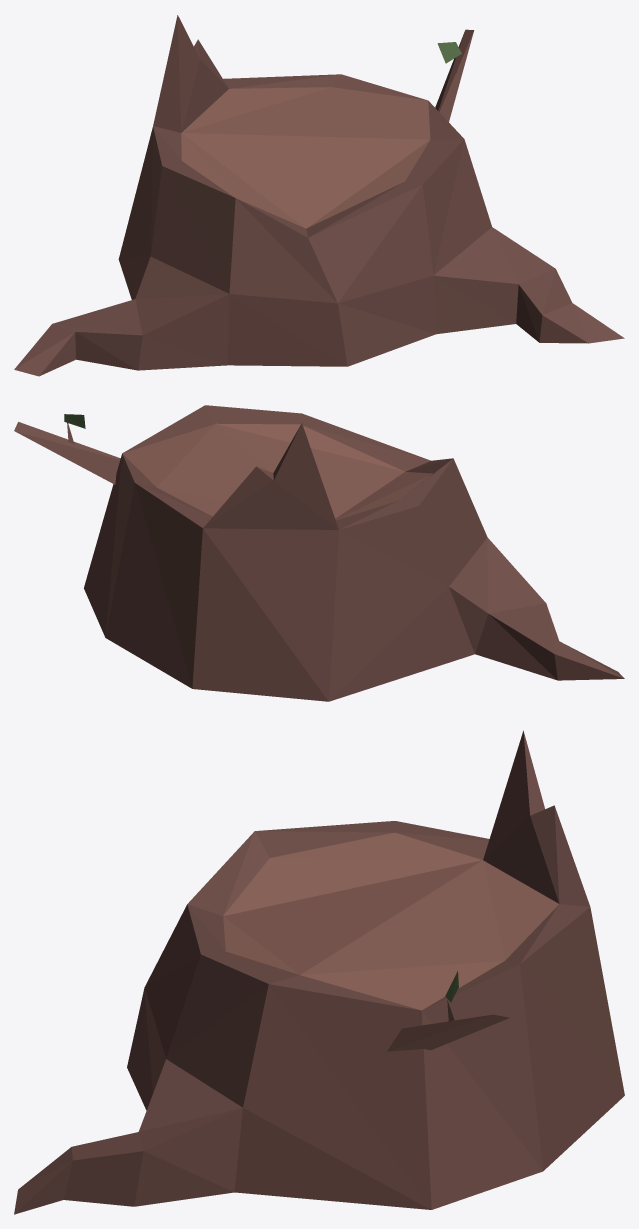
File: TreeStump.lod1.glb
3 renders of one model, top to bottom at view 1: azimuth 30°, elevation 25°; view 2: azimuth 150°, elevation 25°; view 3: azimuth 270°, elevation 25°, orthographic. The views are drawn at different scales.
Visible parts, largest first — view 1: TreeStump; view 2: TreeStump; view 3: TreeStump.
Part boxes in pixels (x1,y1,x2,y2): TreeStump: (14,15,624,376); TreeStump: (14,405,624,701); TreeStump: (14,730,624,1214).
Bounding box in the file's own units: 1.35 × 0.6121 × 1.04.
